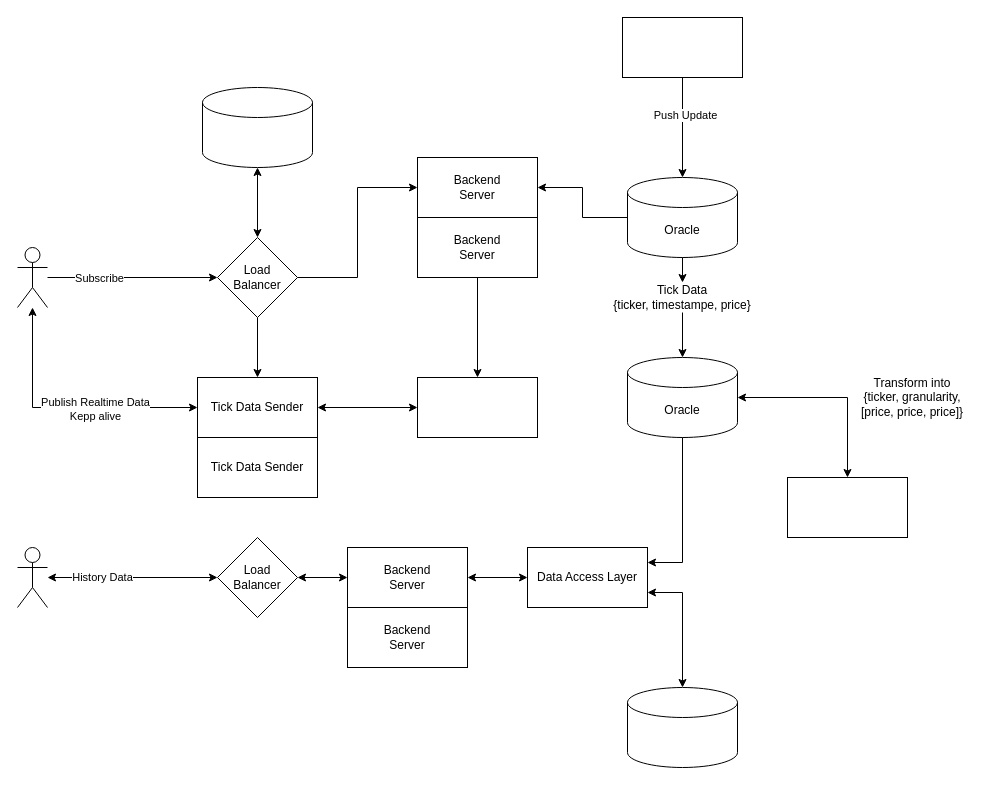
Image size: 1005x785. Some labels were removed from this diagram. The shapes that lost their labels are listed below. From the top down, each one's centre as x and y in pixels, then its label:
At (682,47): "Exchange".
At (257,127): "RedisDB <IP, TickDataID>".
At (477,407): "Kafka".
At (847,507): "ETL".
At (682,727): "Redis [Cache]".
